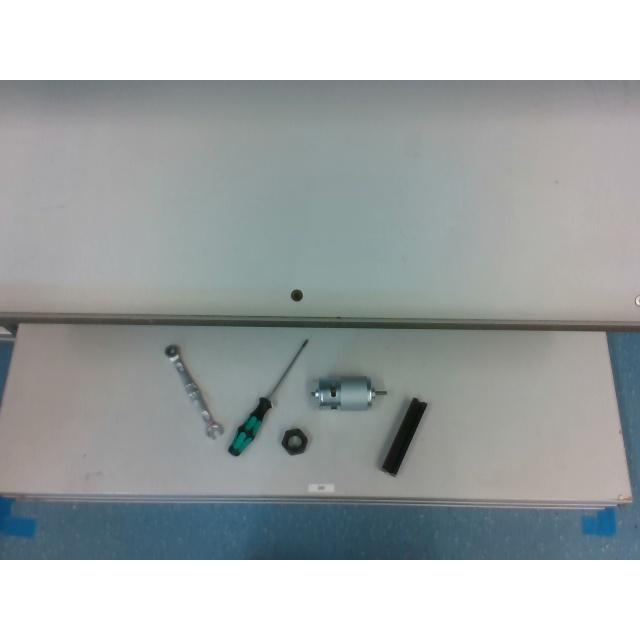F20_20_B: (380, 396, 428, 476)
M20: (281, 428, 307, 456)
Motor2: (312, 376, 386, 410)
Screwdriver: (228, 340, 306, 456)
Wrench: (164, 346, 223, 438)
